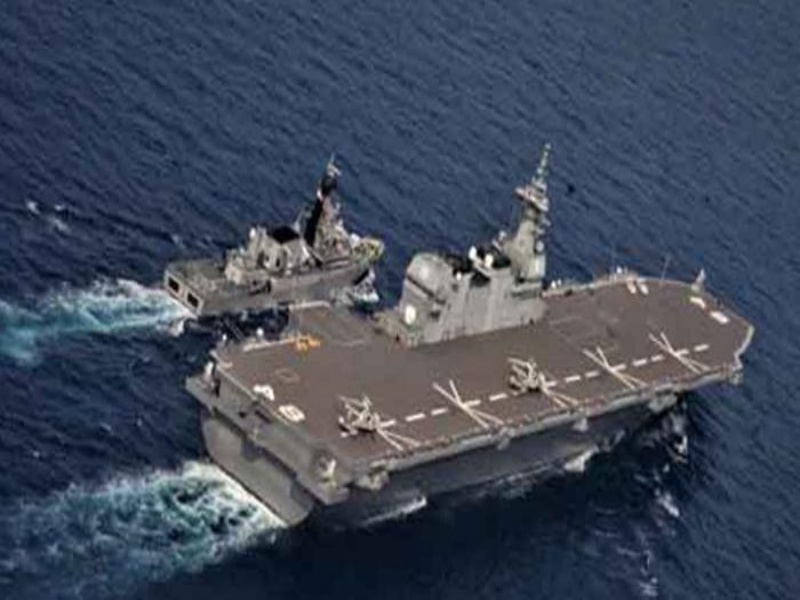carrier: (240, 227, 757, 540), (157, 191, 382, 312)
